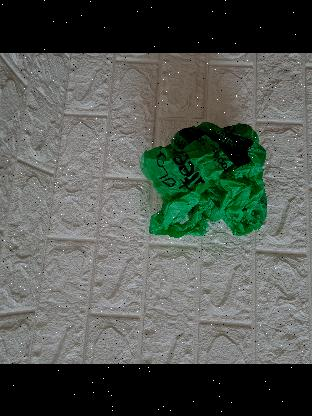Others: (134, 117, 278, 253)
